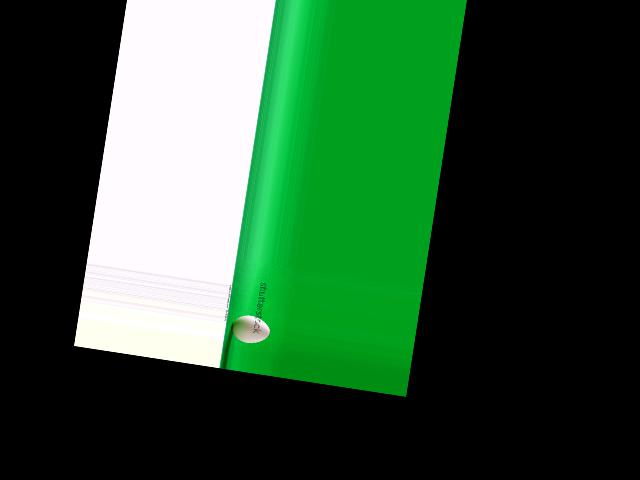egg: (229, 313, 271, 346)
